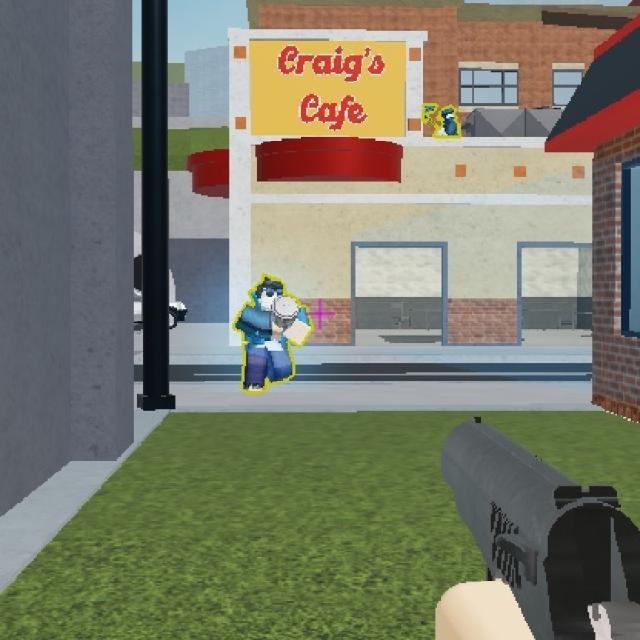player: (242, 266, 286, 390)
